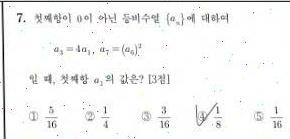choice: (193, 105, 210, 127)
not-choice: (26, 110, 39, 123), (83, 110, 96, 123), (253, 110, 265, 123), (140, 111, 152, 123)
